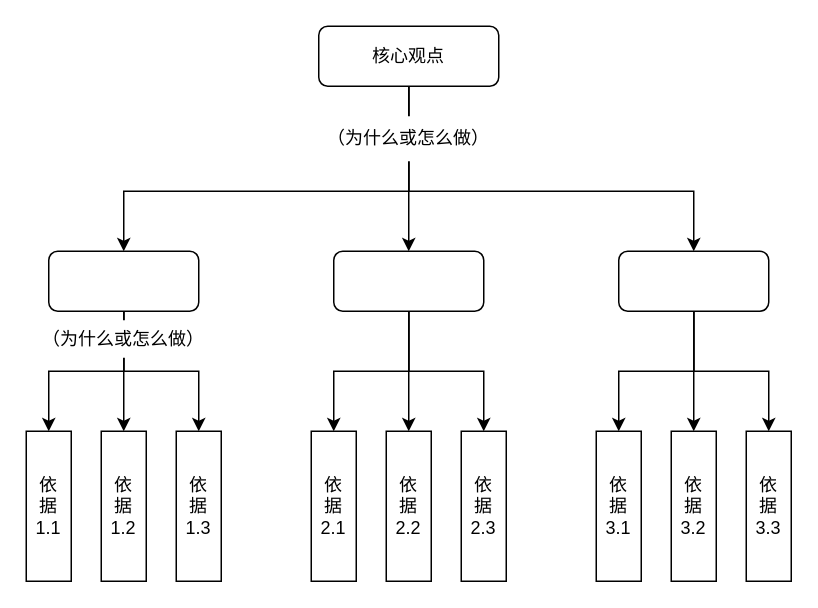
Some shapes in this 818 by 608 pixel diagram are drawn without their labels. Each missing label, with the box of its shape:
主要依据1: (47, 250, 199, 311)
主要依据2: (332, 250, 484, 311)
主要依据3: (617, 250, 769, 311)
